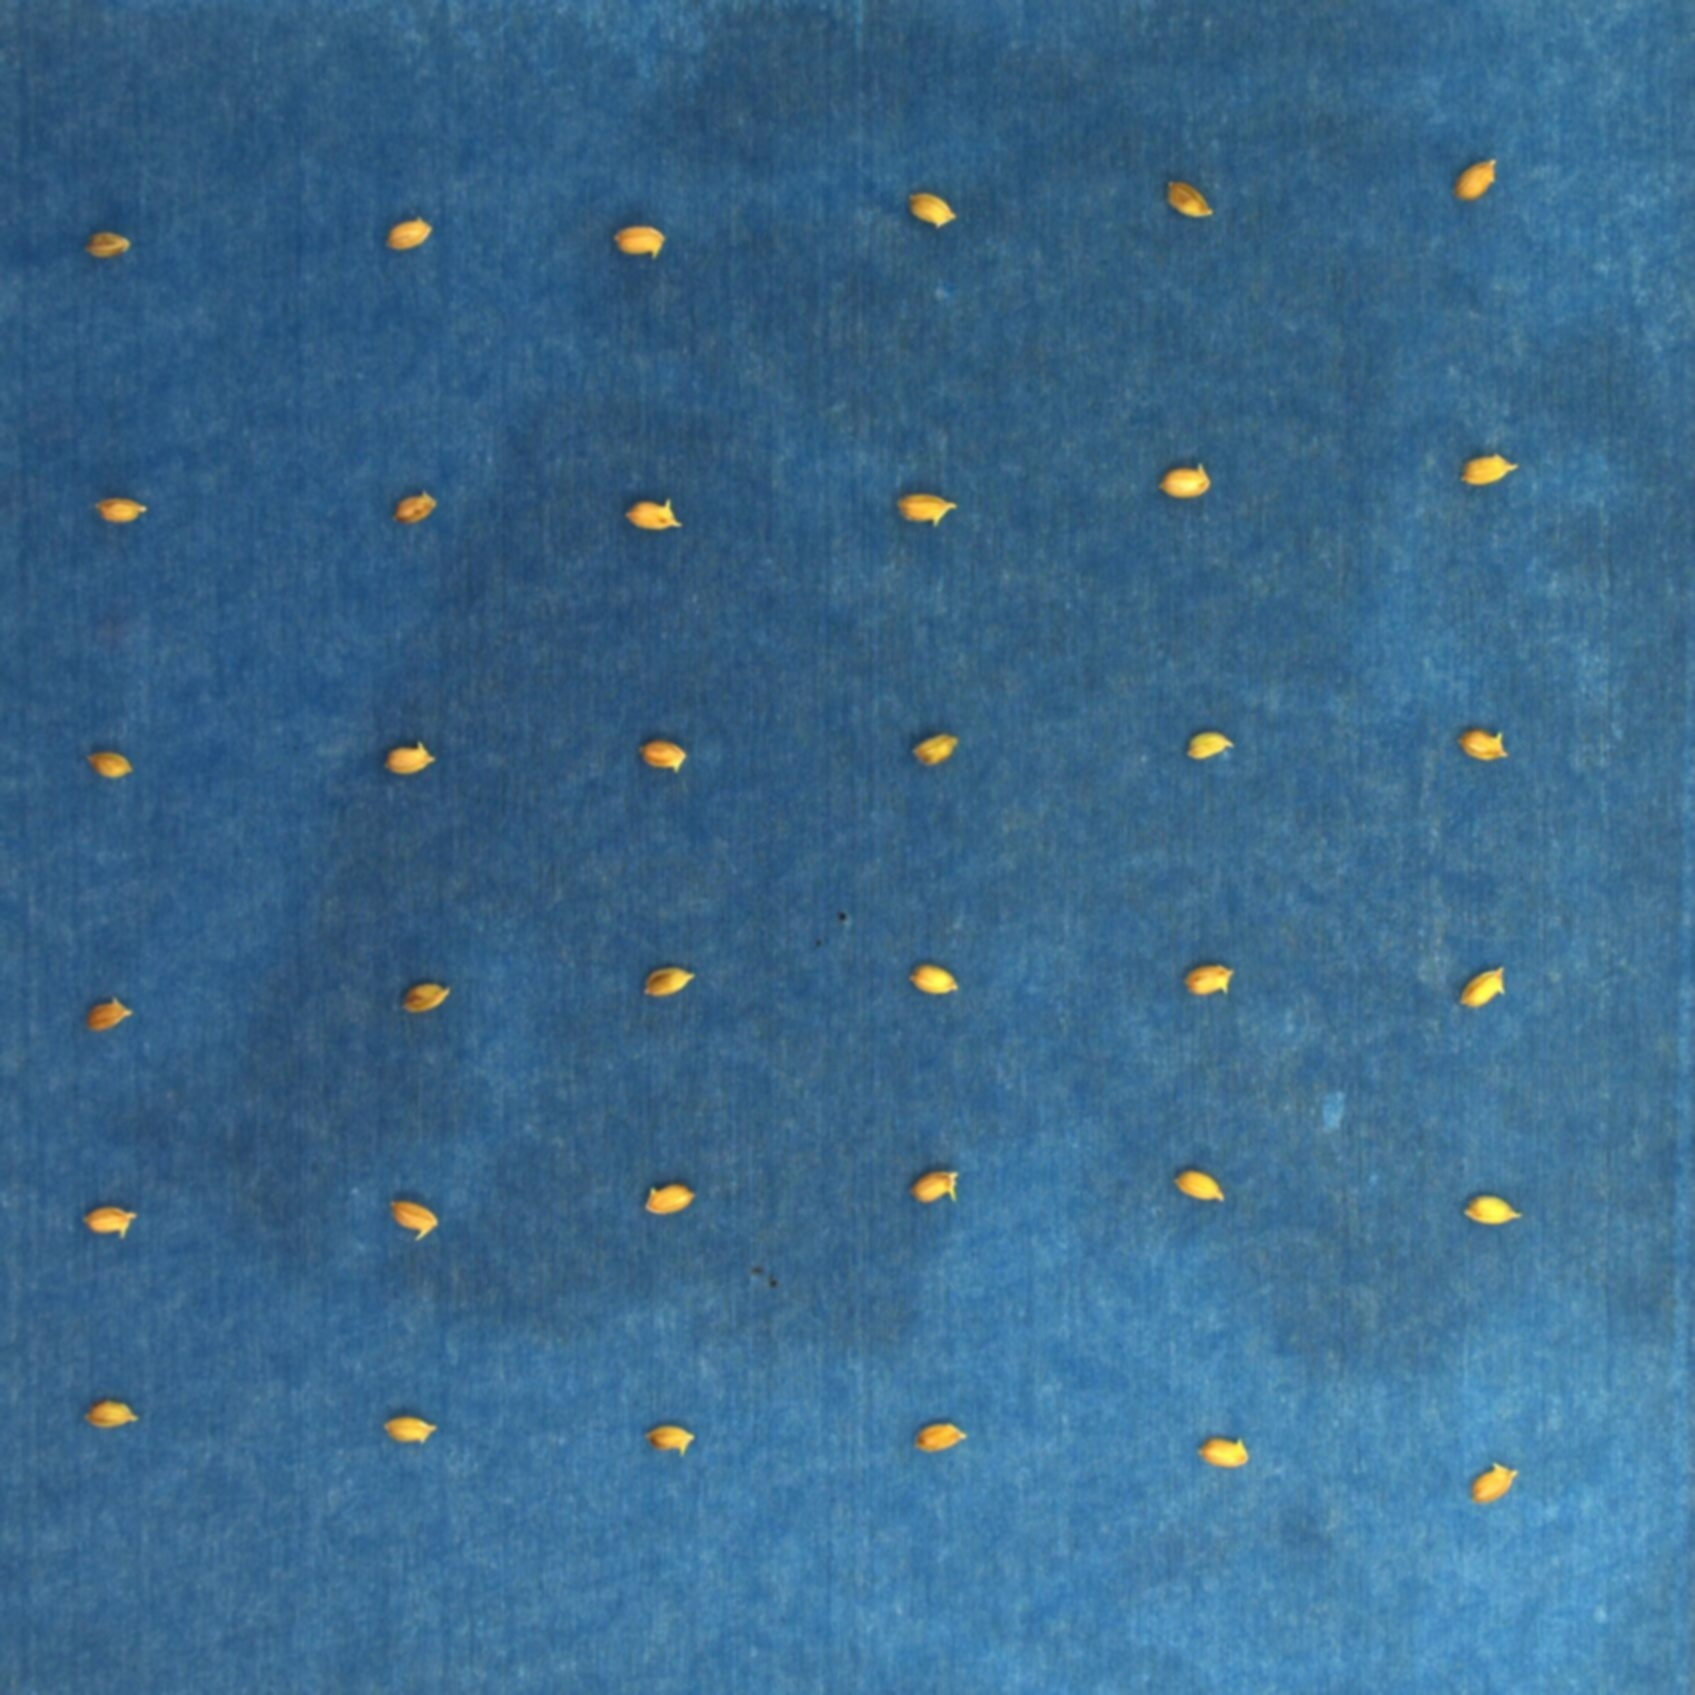not sprout: (386, 1197, 444, 1243), (1453, 155, 1504, 203), (899, 490, 958, 531), (1461, 962, 1510, 1007), (1156, 463, 1214, 501), (84, 1201, 137, 1243), (624, 495, 683, 532), (1454, 726, 1509, 767), (1471, 1459, 1518, 1506), (913, 1167, 965, 1208), (1461, 1194, 1526, 1226), (1461, 452, 1520, 487), (612, 225, 667, 262), (399, 979, 453, 1017), (1164, 179, 1212, 220), (85, 995, 133, 1037), (380, 740, 439, 775), (641, 1183, 697, 1218), (85, 1399, 141, 1434), (380, 1417, 441, 1450), (1181, 962, 1239, 997), (910, 189, 959, 228), (640, 967, 698, 1000), (1175, 1167, 1226, 1205), (913, 1420, 969, 1454), (908, 962, 961, 998), (388, 490, 438, 528), (638, 737, 688, 775), (913, 733, 959, 771), (1195, 1437, 1248, 1471), (646, 1423, 695, 1458), (95, 498, 151, 528), (87, 751, 132, 787), (1184, 730, 1239, 759), (81, 228, 133, 258), (385, 217, 432, 250)
